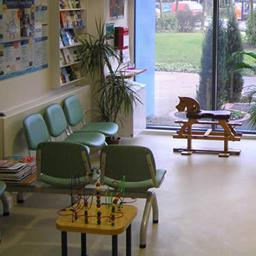Bote de Basura: (125, 81, 146, 140)
Matera: (81, 32, 140, 142)
Otro Obstaculo: (174, 96, 241, 161)
Ventana: (137, 6, 255, 130)
